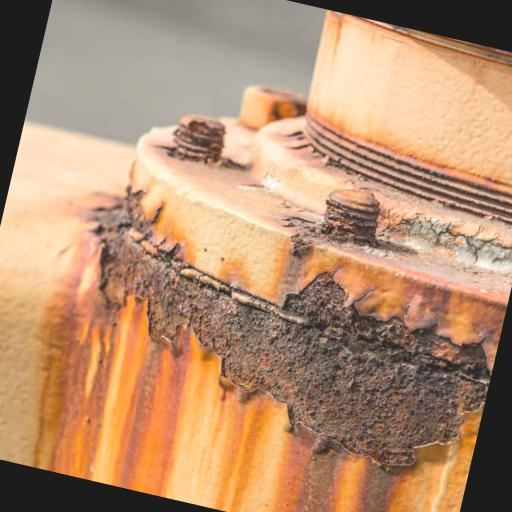corrosion: (44, 171, 507, 504), (26, 281, 491, 512), (104, 125, 321, 302), (237, 83, 308, 139), (319, 183, 384, 244), (170, 113, 228, 166), (355, 463, 398, 512), (299, 439, 329, 507)
